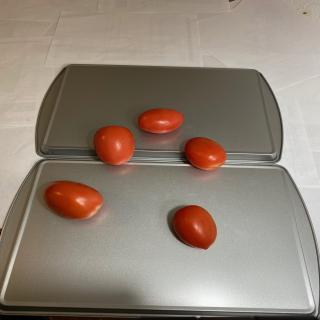Tomato: (42, 180, 104, 220), (172, 205, 217, 250), (93, 126, 135, 166), (184, 137, 227, 170), (138, 108, 184, 134)
